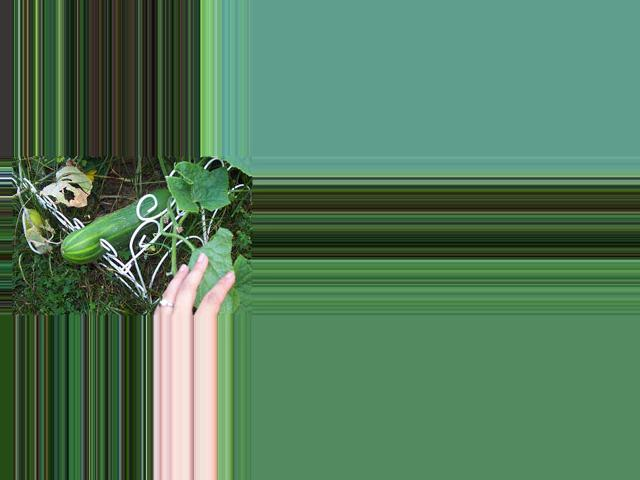cucumber: (61, 188, 173, 264)
